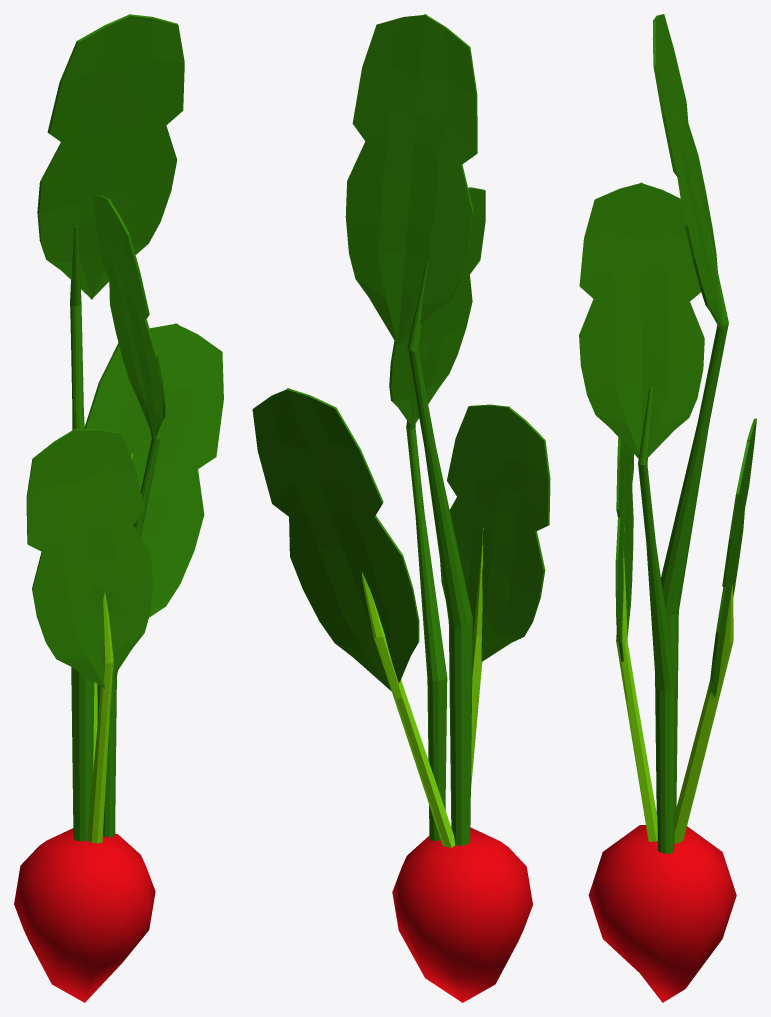
Rendered from Radish Seed VegetatingHead.fbx.
3 renders of one model, left to right at view 1: azimuth 30°, elevation 25°; view 2: azimuth 150°, elevation 25°; view 3: azimuth 270°, elevation 25°, orthographic. The views are drawn at different scales.
Visible parts, largest first — view 1: Plane.002, Plane, Plane.001, Icosphere, Plane.003, Cylinder.003, Cylinder.001, Cylinder.004; view 2: Plane.002, Plane.001, Plane, Icosphere, Cylinder.003, Plane.003, Cylinder.004, Cylinder.002, Cylinder.001; view 3: Plane.003, Icosphere, Plane.002, Cylinder.004, Cylinder.003, Plane, Plane.001, Cylinder.002, Cylinder.001.
Part boxes in pixels (x1,y1,x2,y2): Plane.002: [37, 14, 184, 299]; Plane: [26, 429, 152, 688]; Plane.001: [84, 323, 223, 617]; Icosphere: [14, 828, 155, 1002]; Plane.003: [93, 195, 165, 436]; Cylinder.003: [70, 226, 94, 841]; Cylinder.001: [87, 591, 113, 843]; Cylinder.004: [97, 398, 160, 837]; Plane.002: [345, 14, 477, 345]; Plane.001: [252, 388, 419, 691]; Plane: [440, 404, 550, 661]; Icosphere: [392, 827, 532, 1002]; Cylinder.003: [407, 261, 472, 845]; Plane.003: [389, 187, 485, 424]; Cylinder.004: [406, 396, 447, 840]; Cylinder.002: [362, 572, 455, 847]; Cylinder.001: [471, 528, 483, 787]; Plane.003: [579, 182, 704, 458]; Icosphere: [588, 825, 736, 1002]; Plane.002: [652, 14, 723, 331]; Cylinder.004: [638, 387, 676, 854]; Cylinder.003: [655, 233, 728, 815]; Plane: [615, 437, 633, 662]; Plane.001: [709, 418, 756, 697]; Cylinder.002: [674, 584, 733, 843]; Cylinder.001: [616, 527, 657, 841].
Size of the model in its own units: 394 by 1495 by 240.
